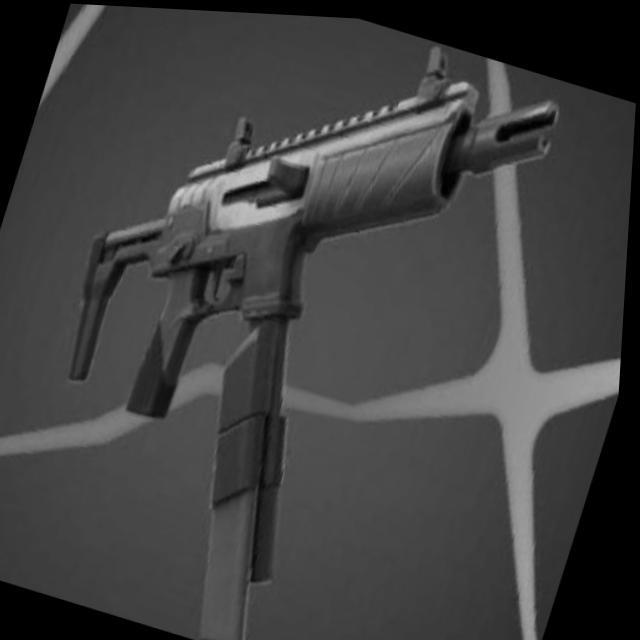weapon: (0, 1, 573, 640)
